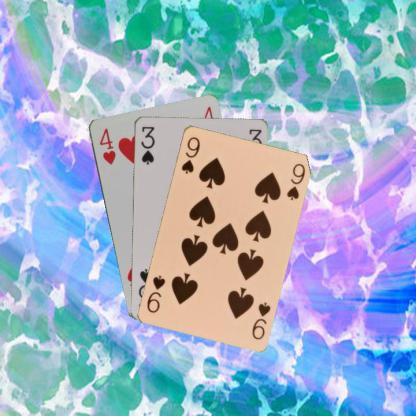3s: (138, 124, 156, 166)
4h: (96, 125, 116, 166)
9s: (249, 299, 272, 340), (179, 134, 201, 175)
